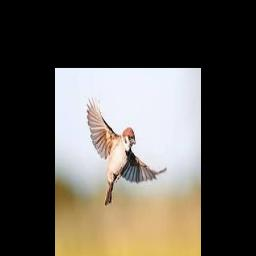Sparrow: (86, 94, 167, 205)
